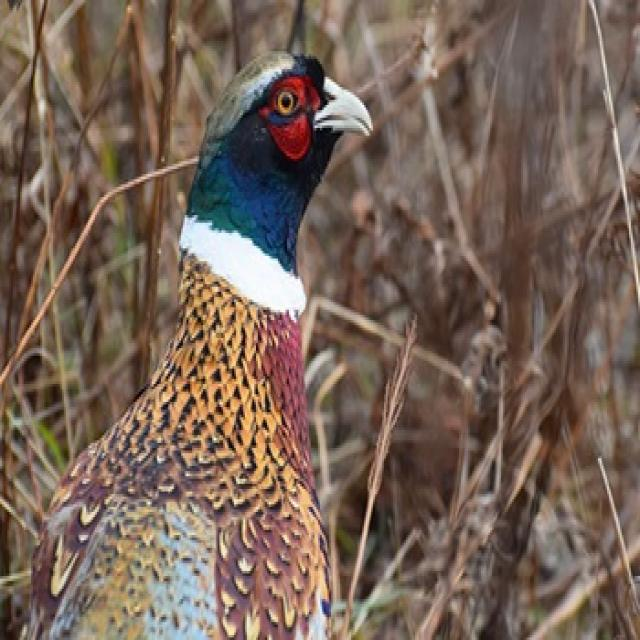pheasant: (23, 48, 374, 634)
